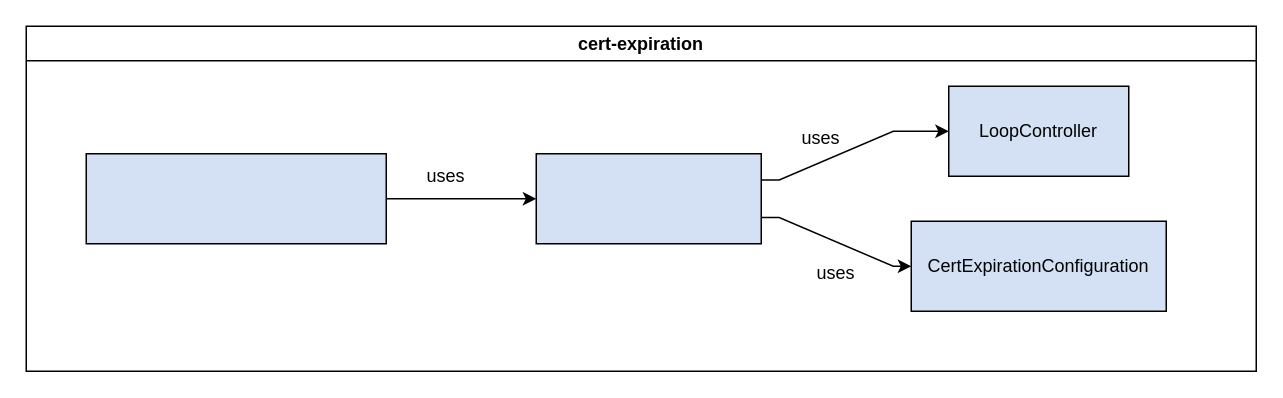
Image size: 1283x398. Some labels were removed from this diagram. The box of each missing label's shape, as (x1, y1, x2, y2) in pixels:
CertExpirationConsumer: (535, 152, 761, 244)
CertExpirationConsumerWrapper: (85, 152, 386, 244)
